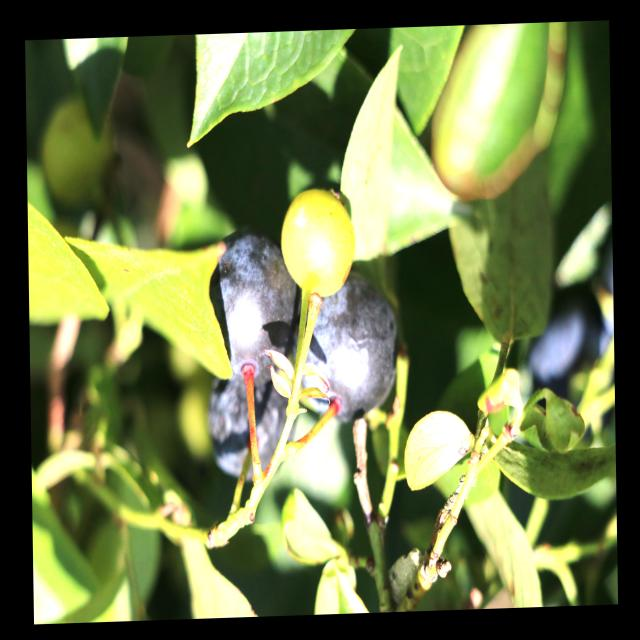blueberry: (294, 266, 399, 424), (209, 234, 300, 379), (209, 382, 299, 479)
blueberry-unripe: (278, 189, 353, 300)
